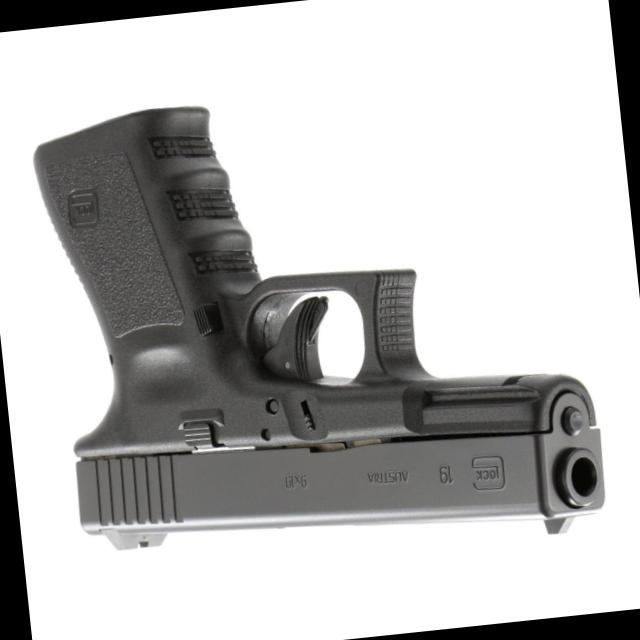Weapon: (3, 61, 621, 596)
